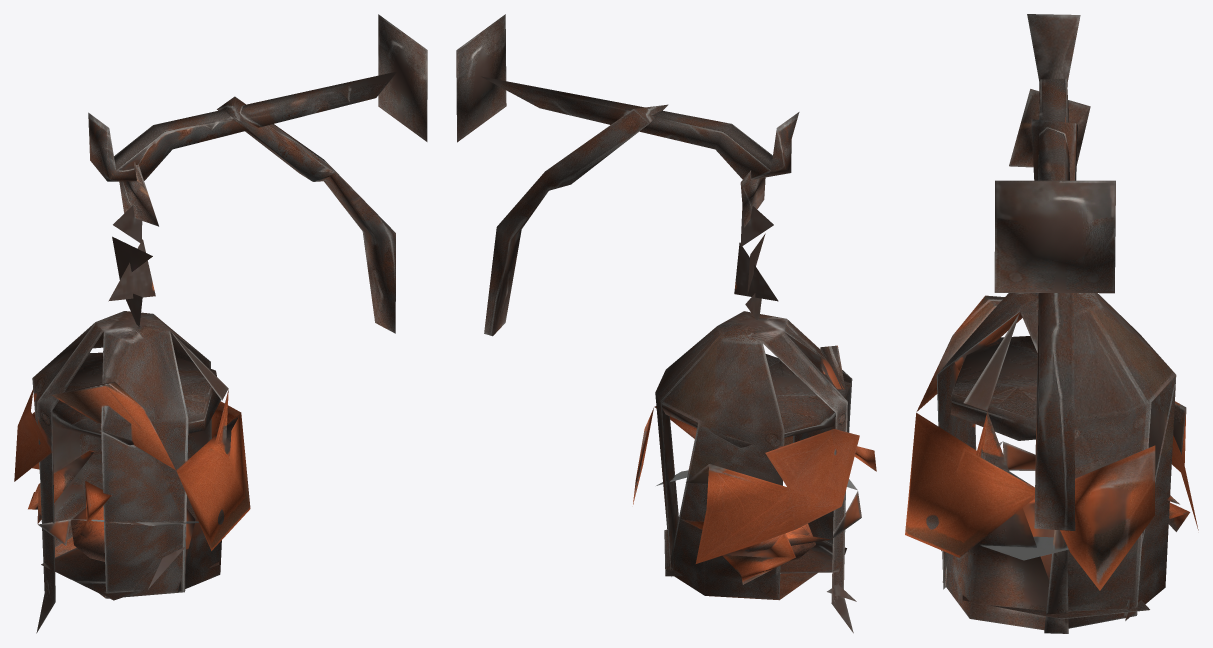
Rendered from goblin-hanging-lantern.glb.
The picture shows the model from 3 angles, left to right: view 1: azimuth 30°, elevation 25°; view 2: azimuth 150°, elevation 25°; view 3: azimuth 270°, elevation 25°; orthographic projection. The views are drawn at different scales.
Size of the model in its own units: 0.7668 by 1 by 0.4261.
1 material, 1 textured.
